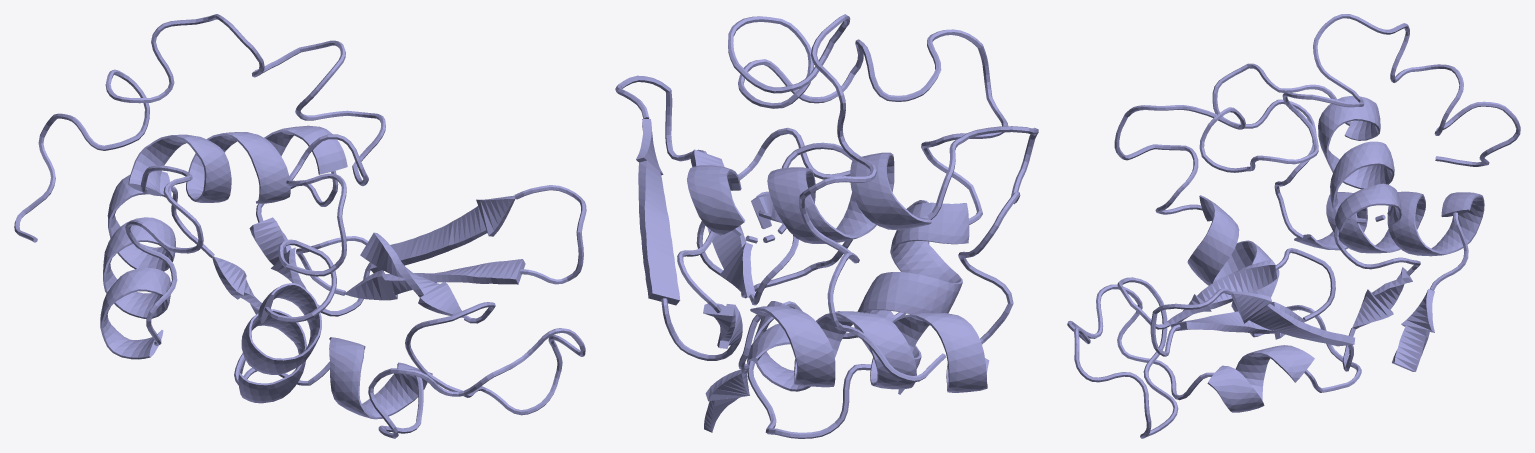
Rendered from 1lyz__cartoon__b-factor.glb.
3 views of the same model, side by side, from view 1: azimuth 30°, elevation 25°; view 2: azimuth 150°, elevation 25°; view 3: azimuth 270°, elevation 25° (orthographic). The views are drawn at different scales.
Parts seen in each view (by area): view 1: Renderer Node; view 2: Renderer Node; view 3: Renderer Node.
Boxes of the visible parts, x1,y1,x2,y2 form: Renderer Node: (14, 14, 586, 438); Renderer Node: (615, 14, 1038, 438); Renderer Node: (1067, 14, 1520, 438).
Size of the model in its own units: 34.97 by 30.68 by 35.96.
